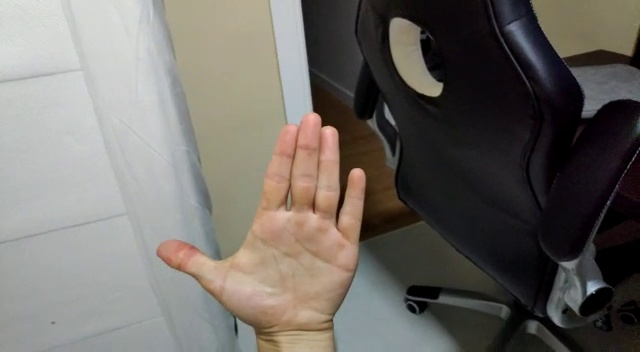Palm: (154, 106, 371, 341)
